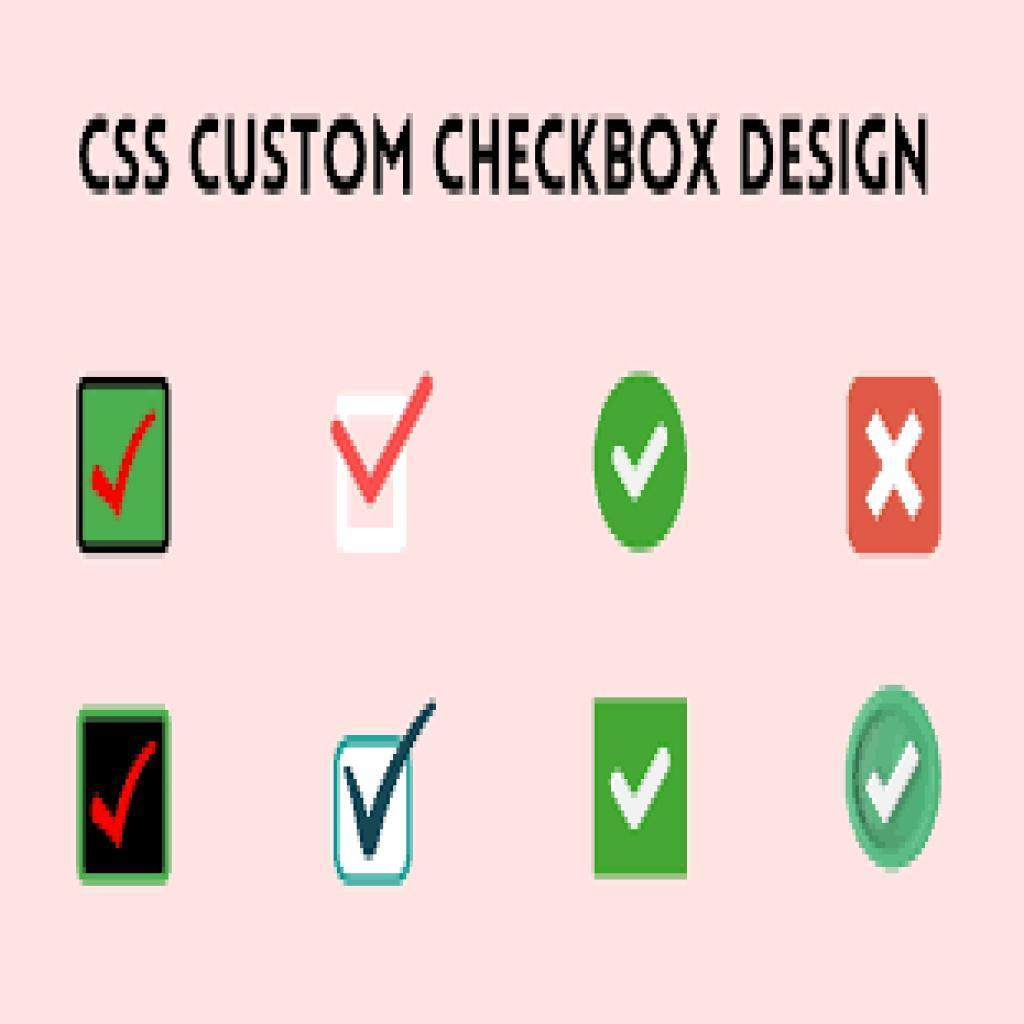checkbox: (846, 684, 951, 876), (594, 370, 693, 559), (591, 696, 694, 876), (846, 377, 946, 557), (77, 715, 173, 883), (79, 387, 169, 552), (334, 739, 412, 876), (342, 408, 399, 534)
